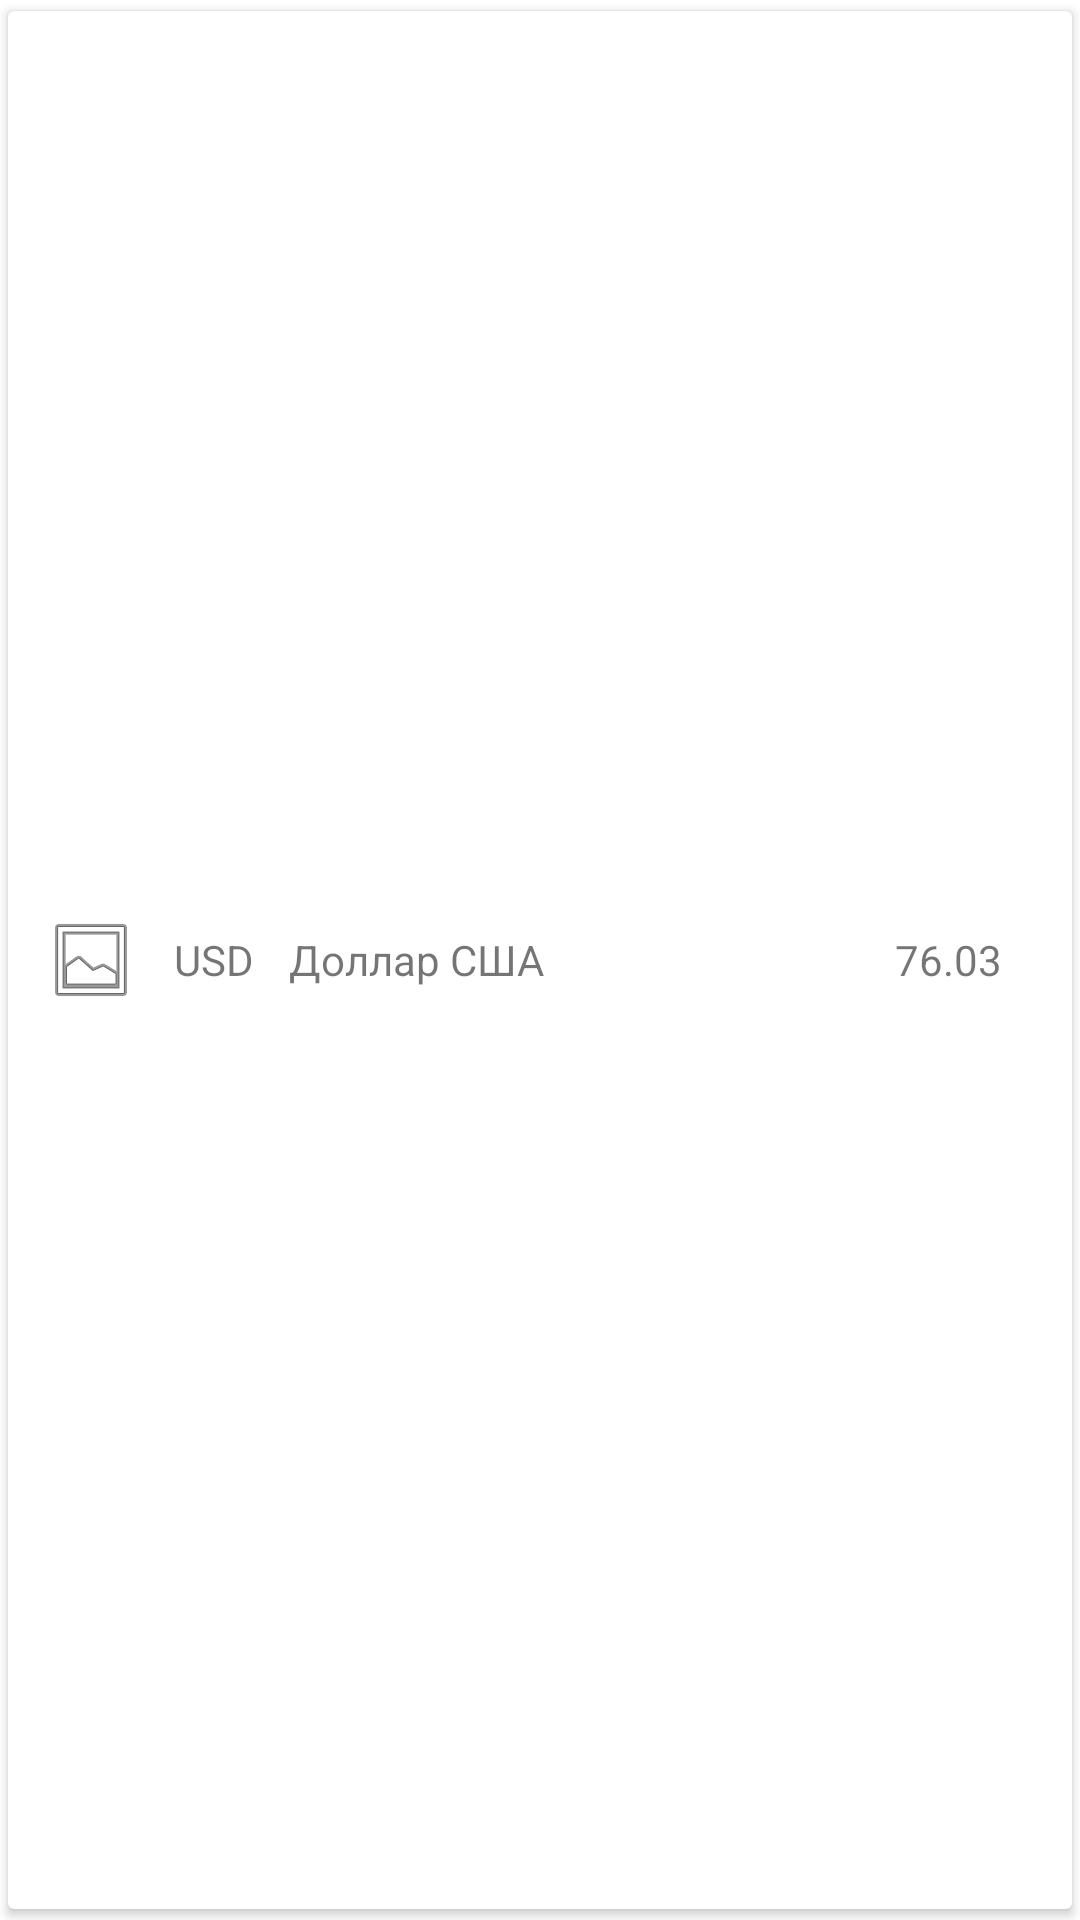

Icon click points for this 1080px×1920px phone screenshot, format point (x, y):
gallery: point (91, 960)
